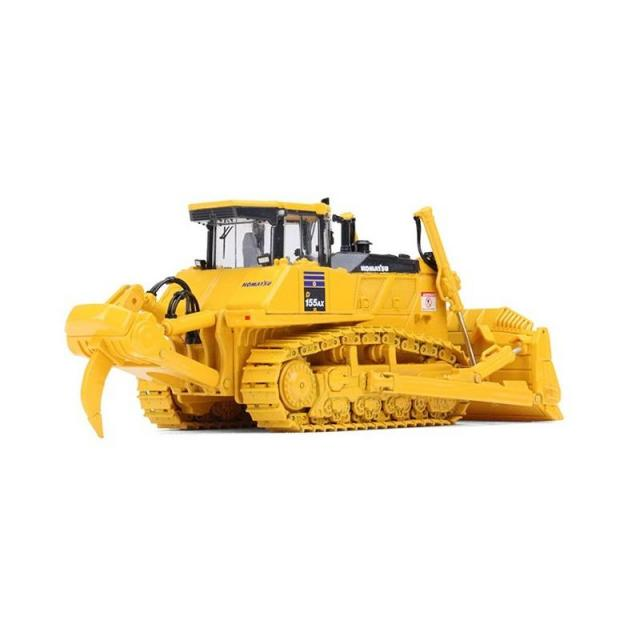Bulldozer: (58, 190, 606, 460)
